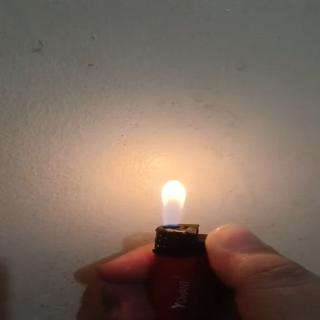fire: (147, 177, 200, 230)
